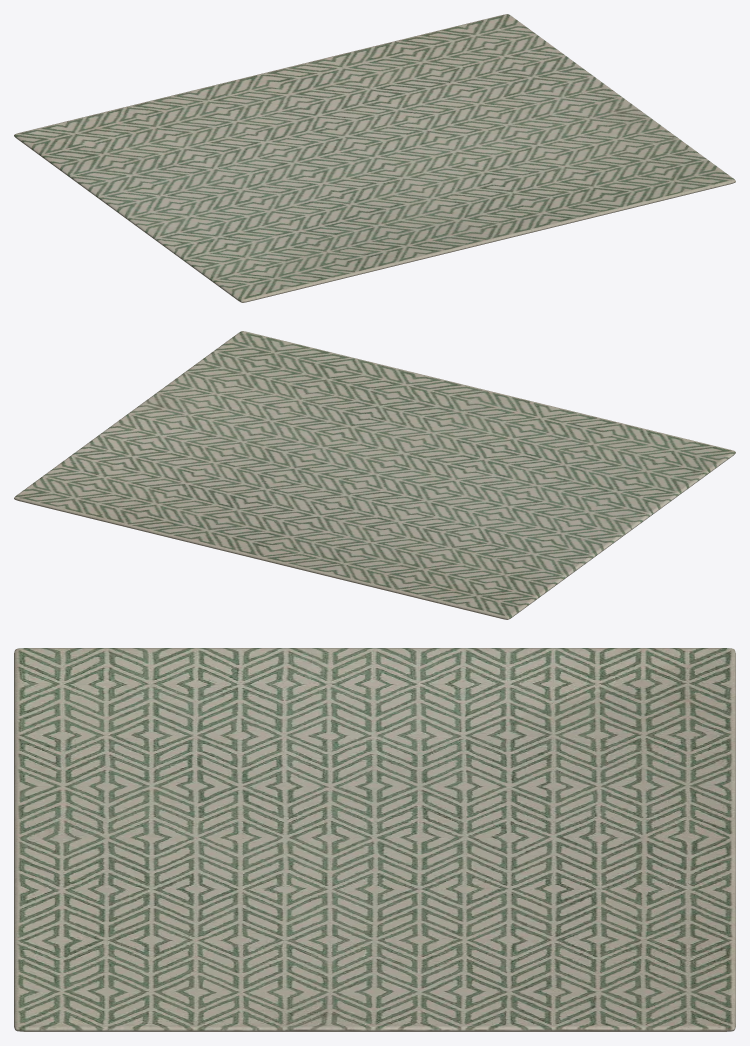
Rendered from B07QFB1Z7T.glb.
3 views of the same model, one above another, from view 1: azimuth 30°, elevation 25°; view 2: azimuth 150°, elevation 25°; view 3: azimuth 270°, elevation 25° (orthographic). The views are drawn at different scales.
Visible parts, largest first — view 1: RootNode; view 2: RootNode; view 3: RootNode.
Boxes of the visible parts, x1=… form: RootNode: x1=14, y1=14, x2=735, y2=302; RootNode: x1=14, y1=331, x2=735, y2=619; RootNode: x1=14, y1=648, x2=735, y2=1031.
Size of the model in its own units: 3.05 by 0.0168 by 2.44.
1 material, 1 textured.
